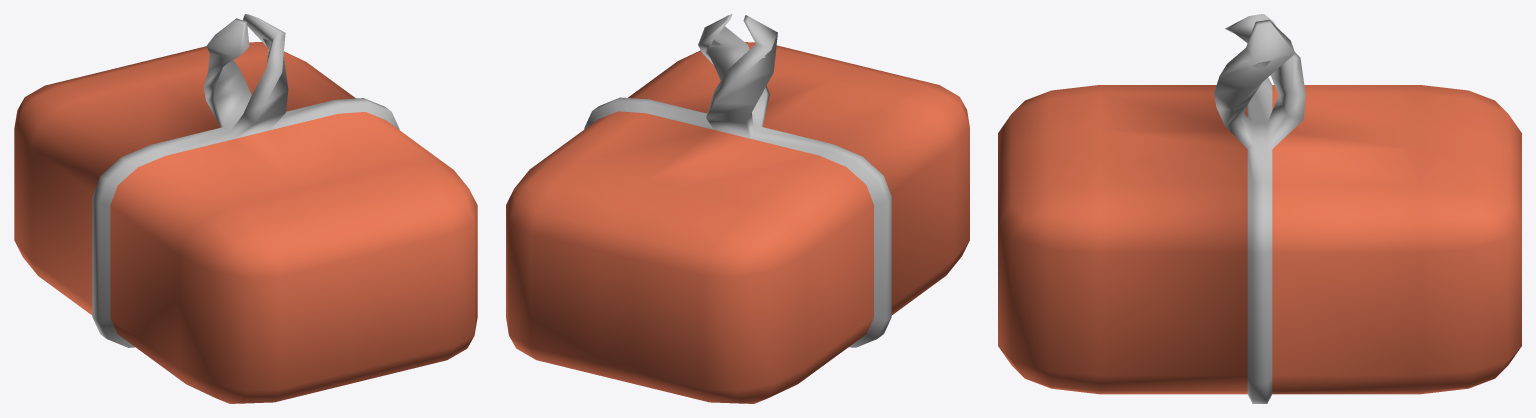
The model's file is soap.fbx.
3 views of the same model, side by side, from view 1: azimuth 30°, elevation 25°; view 2: azimuth 150°, elevation 25°; view 3: azimuth 270°, elevation 25° (orthographic). The views are drawn at different scales.
Visible parts, largest first — view 1: Soap; view 2: Soap; view 3: Soap.
Boxes of the visible parts, box(x1,y1,x2,y2) form: Soap: box(14, 14, 477, 403); Soap: box(506, 14, 969, 403); Soap: box(998, 14, 1521, 403).
Size of the model in its own units: 11.94 by 16.68 by 11.52.
